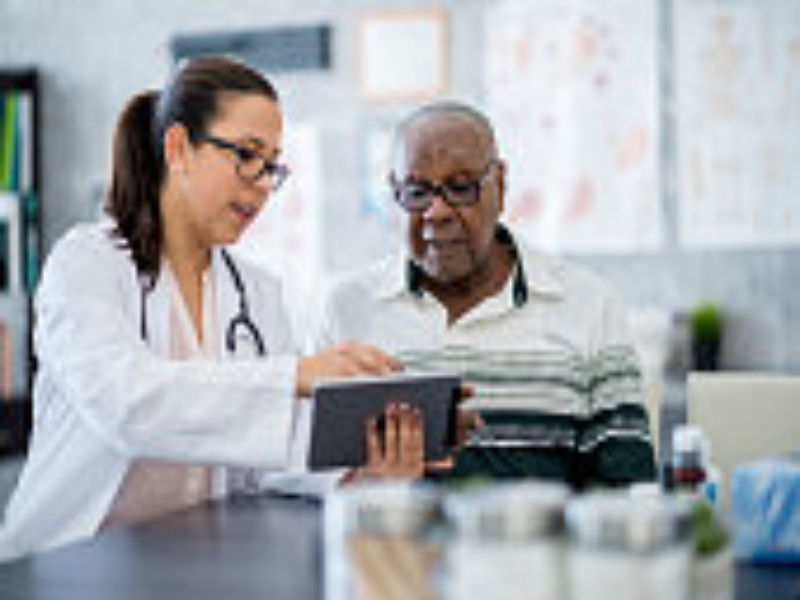person: (169, 33, 712, 580)
